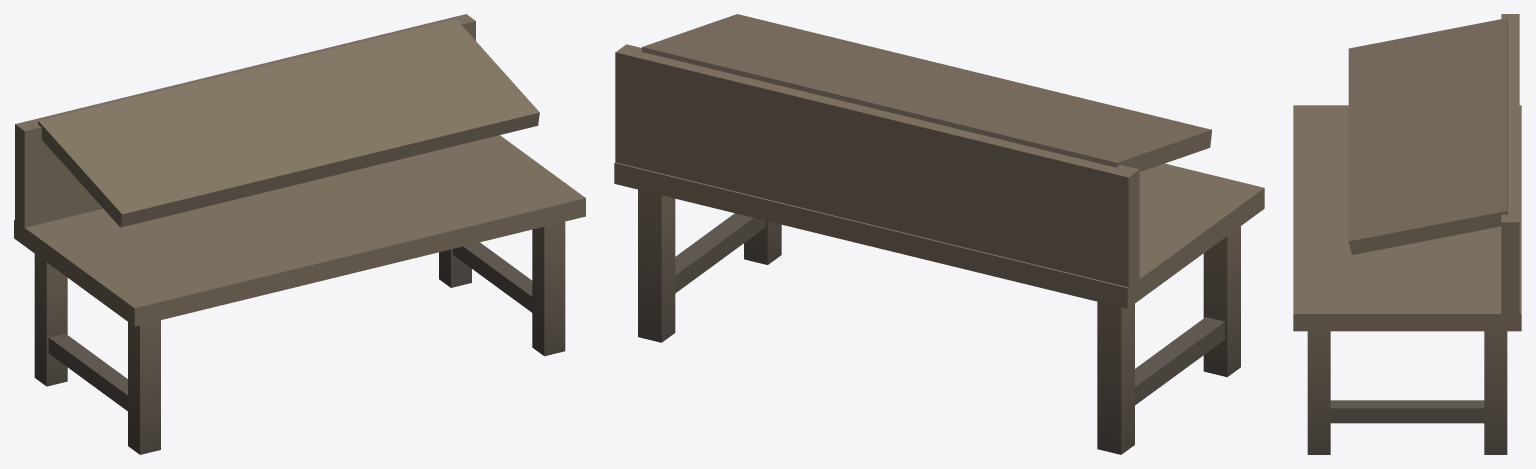
Rendered from prop_misedai.glb.
The picture shows the model from 3 angles, left to right: view 1: azimuth 30°, elevation 25°; view 2: azimuth 150°, elevation 25°; view 3: azimuth 270°, elevation 25°; orthographic projection. The views are drawn at different scales.
Parts seen in each view (by area): view 1: prop_misedai; view 2: prop_misedai; view 3: prop_misedai.
Part boxes in pixels (left/top/right/bottom): prop_misedai: left=14, top=14, right=585, bottom=454; prop_misedai: left=614, top=14, right=1264, bottom=454; prop_misedai: left=1293, top=14, right=1521, bottom=454.
Size of the model in its own units: 1.34 by 0.7263 by 0.62.
